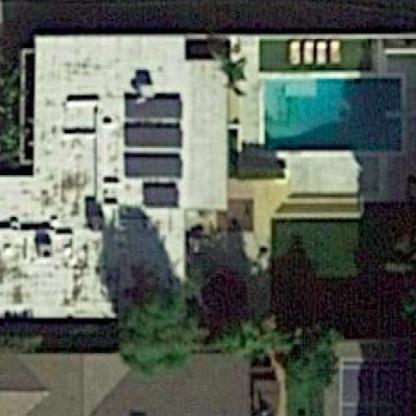solar_panel: (118, 78, 192, 220)
swimming_pool: (249, 63, 410, 165)
